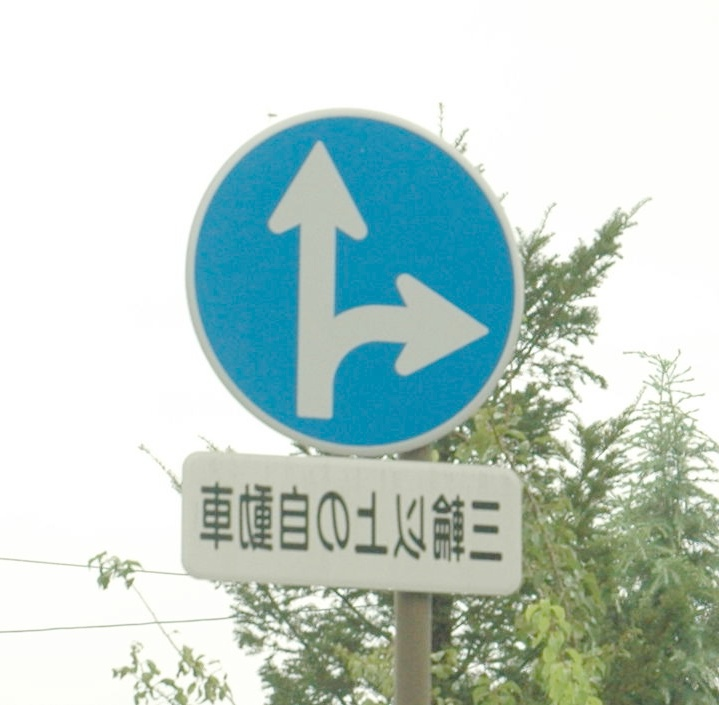Direction_sign: (185, 108, 547, 466)
